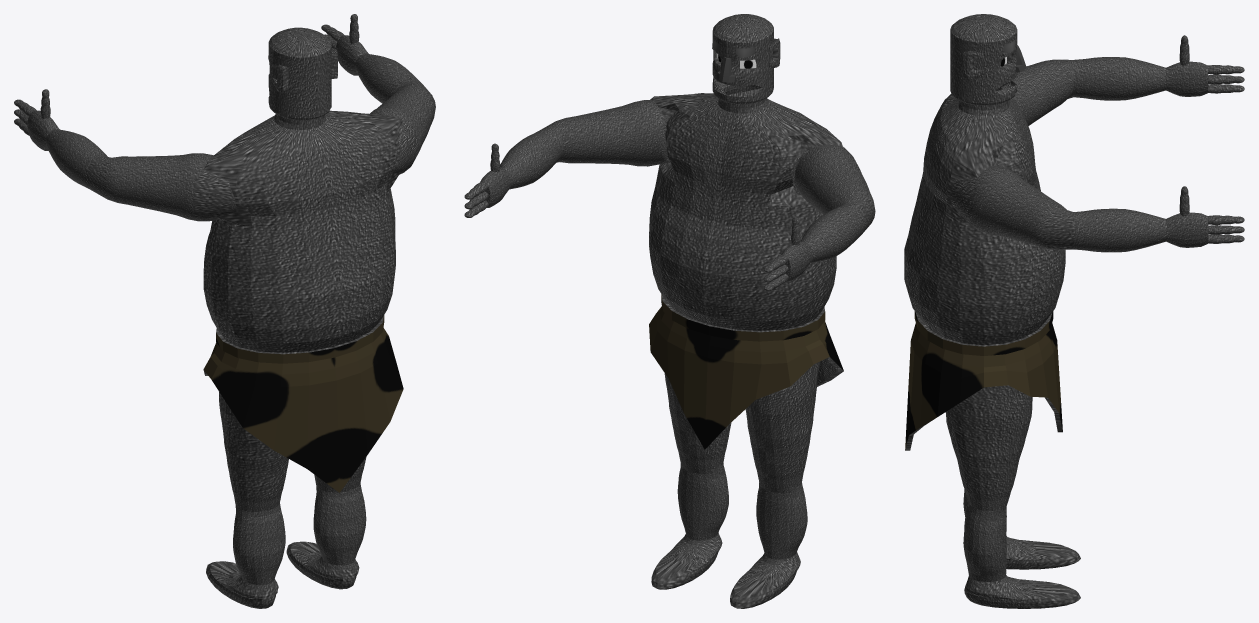
File: Troll.fbx
3 views of the same model, side by side, from view 1: azimuth 30°, elevation 25°; view 2: azimuth 150°, elevation 25°; view 3: azimuth 270°, elevation 25° (orthographic). The views are drawn at different scales.
Parts seen in each view (by area): view 1: pCylinder11; view 2: pCylinder11; view 3: pCylinder11.
Part boxes in pixels (x1=…): pCylinder11: x1=14, y1=14, x2=435, y2=608; pCylinder11: x1=464, y1=14, x2=875, y2=608; pCylinder11: x1=904, y1=14, x2=1244, y2=608.
Size of the model in its own units: 117 by 181 by 99.37.
1 material, 1 textured.
